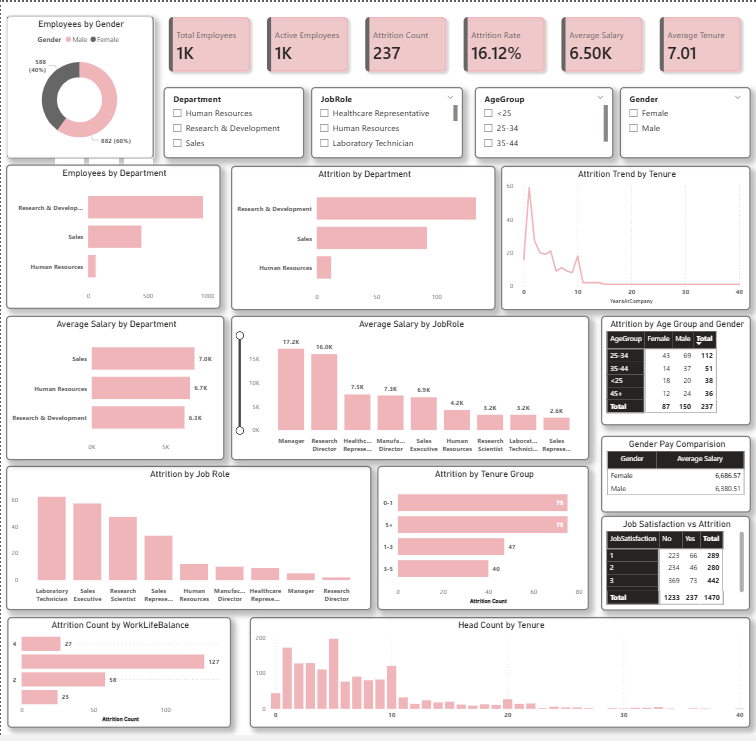

The page's visual inventory and layout, read from the dashboard file:
{"tool":"powerbi","page":{"name":"Page 1","canvas":[1440,1400],"ordinal":0},"visuals":[{"type":"cardVisual","fields":{"Data":["HR Analysis.Total Employees","HR Analysis.Active Employees","HR Analysis.Attrition Count","HR Analysis.Attrition Rate","HR Analysis.Average Salary","HR Analysis.Average Tenure"]},"box":[291.3,0,1149.3,162.3],"z":0},{"type":"donutChart","title":"Employees by Gender","fields":{"Category":["HR Analysis.Gender"],"Y":["HR Analysis.Total Employees"]},"box":[10.7,26,281.3,272.1],"z":1000},{"type":"barChart","title":" Employees by Department","fields":{"Category":["HR Analysis.Department"],"Y":["HR Analysis.Total Employees"]},"box":[10.1,308.7,408.7,275.4],"z":2000},{"type":"columnChart","title":"Head Count by Tenure","fields":{"Category":["HR Analysis.YearsAtCompany"],"Y":["HR Analysis.Total Employees"]},"box":[473.9,1172.5,953.6,211.6],"z":3000},{"type":"barChart","title":"Attrition by Department","fields":{"Category":["HR Analysis.Department"],"Y":["HR Analysis.Attrition Count"]},"box":[437.7,311.6,504.3,275.4],"z":3001},{"type":"columnChart","title":"Attrition by Job Role","fields":{"Category":["HR Analysis.JobRole"],"Y":["HR Analysis.Attrition Count"]},"box":[10.1,884.1,695.7,275.4],"z":3002},{"type":"lineChart","title":"Attrition Trend by Tenure","fields":{"Category":["HR Analysis.YearsAtCompany"],"Y":["HR Analysis.Attrition Count"]},"box":[952.2,311.6,475.4,275.4],"z":3003},{"type":"pivotTable","title":"Attrition by Age Group and Gender","fields":{"Rows":["HR Analysis.AgeGroup"],"Columns":["HR Analysis.Gender"],"Values":["HR Analysis.Attrition Count"]},"box":[1142,598.6,285.5,208.7],"z":3004},{"type":"barChart","fields":{"Category":["HR Analysis.Department"],"Y":["HR Analysis.Average Salary"]},"box":[10.1,598.6,415.9,275.4],"z":3005},{"type":"columnChart","fields":{"Category":["HR Analysis.JobRole"],"Y":["HR Analysis.Average Salary"]},"box":[437.7,598.6,682.6,275.4],"z":3006},{"type":"tableEx","title":"Gender Pay Comparision","fields":{"Values":["HR Analysis.Gender","HR Analysis.Average Salary"]},"box":[1142,826.1,285.5,146.4],"z":3007},{"type":"barChart","title":"Attrition by Tenure Group","fields":{"Category":["HR Analysis.TenureGroup"],"Y":["HR Analysis.Attrition Count"]},"box":[717.4,884.1,402.9,275.4],"z":3008},{"type":"pivotTable","title":"Job Satisfaction vs Attrition","fields":{"Rows":["HR Analysis.JobSatisfaction"],"Columns":["HR Analysis.Attrition"],"Values":["HR Analysis.Total Employees"]},"box":[1142,978.3,284.1,181.2],"z":3009},{"type":"barChart","fields":{"Category":["HR Analysis.WorkLifeBalance"],"Y":["HR Analysis.Attrition Count"]},"box":[11.6,1172.5,426.1,211.6],"z":3010},{"type":"slicer","fields":{"Values":["HR Analysis.Department"]},"box":[308.7,162.3,268.1,136.2],"z":3011},{"type":"slicer","fields":{"Values":["HR Analysis.JobRole"]},"box":[591.3,162.3,289.9,136.2],"z":3012},{"type":"slicer","fields":{"Values":["HR Analysis.Gender"]},"box":[1178.3,162.3,249.3,136.2],"z":3013},{"type":"slicer","fields":{"Values":["HR Analysis.AgeGroup"]},"box":[901.4,162.3,263.8,136.2],"z":3014}]}

Visuals, with their boxes in screenshot pixels (x1, y1, x2, y2), scaled from the page's 1440x1400 canvas onto the 756x741 screenshot:
cardVisual - HR Analysis.Total Employees x HR Analysis.Active Employees: x1=153, y1=0, x2=755, y2=86
"Employees by Gender" donutChart: x1=6, y1=14, x2=153, y2=158
" Employees by Department" barChart: x1=5, y1=163, x2=220, y2=309
"Head Count by Tenure" columnChart: x1=249, y1=621, x2=749, y2=733
"Attrition by Department" barChart: x1=230, y1=165, x2=495, y2=311
"Attrition by Job Role" columnChart: x1=5, y1=468, x2=371, y2=614
"Attrition Trend by Tenure" lineChart: x1=500, y1=165, x2=749, y2=311
"Attrition by Age Group and Gender" pivotTable: x1=600, y1=317, x2=749, y2=427
barChart - HR Analysis.Department x HR Analysis.Average Salary: x1=5, y1=317, x2=224, y2=463
columnChart - HR Analysis.JobRole x HR Analysis.Average Salary: x1=230, y1=317, x2=588, y2=463
"Gender Pay Comparision" tableEx: x1=600, y1=437, x2=749, y2=515
"Attrition by Tenure Group" barChart: x1=377, y1=468, x2=588, y2=614
"Job Satisfaction vs Attrition" pivotTable: x1=600, y1=518, x2=749, y2=614
barChart - HR Analysis.WorkLifeBalance x HR Analysis.Attrition Count: x1=6, y1=621, x2=230, y2=733
slicer - HR Analysis.Department: x1=162, y1=86, x2=303, y2=158
slicer - HR Analysis.JobRole: x1=310, y1=86, x2=463, y2=158
slicer - HR Analysis.Gender: x1=619, y1=86, x2=749, y2=158
slicer - HR Analysis.AgeGroup: x1=473, y1=86, x2=612, y2=158
